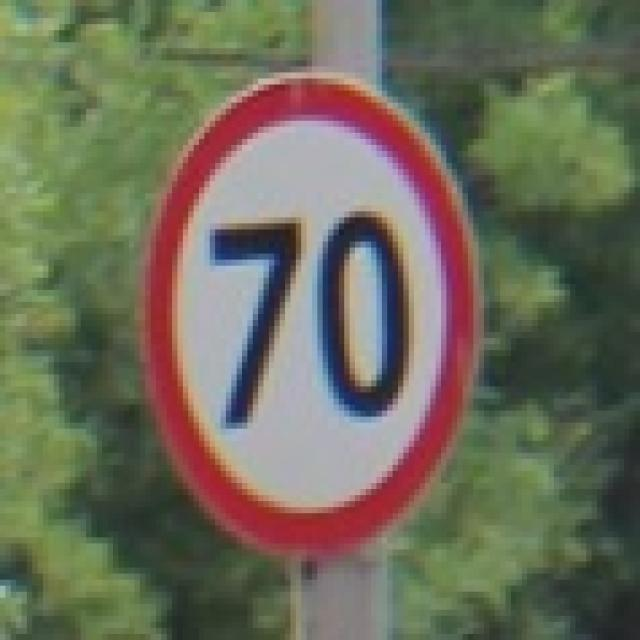Speed Limit -70-: (212, 208, 414, 439)
